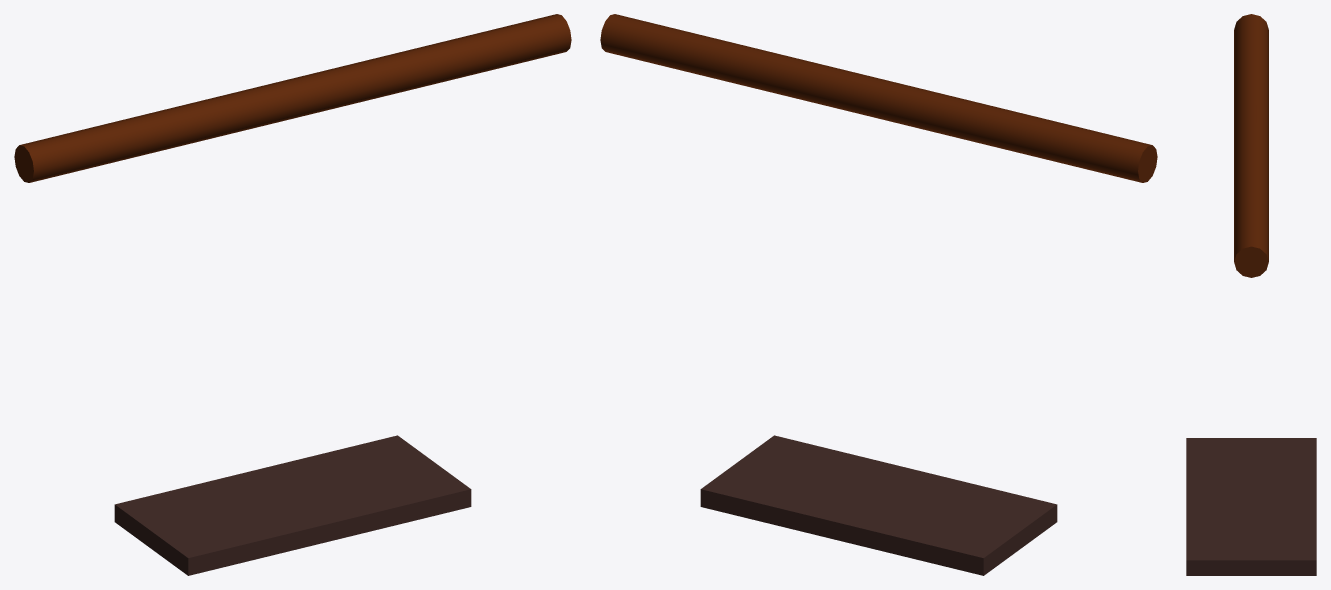
Rendered from jhula.glb.
3 renders of one model, left to right at view 1: azimuth 30°, elevation 25°; view 2: azimuth 150°, elevation 25°; view 3: azimuth 270°, elevation 25°, orthographic. The views are drawn at different scales.
Bounding box in the file's own units: 3.8 × 2.93 × 0.9.
